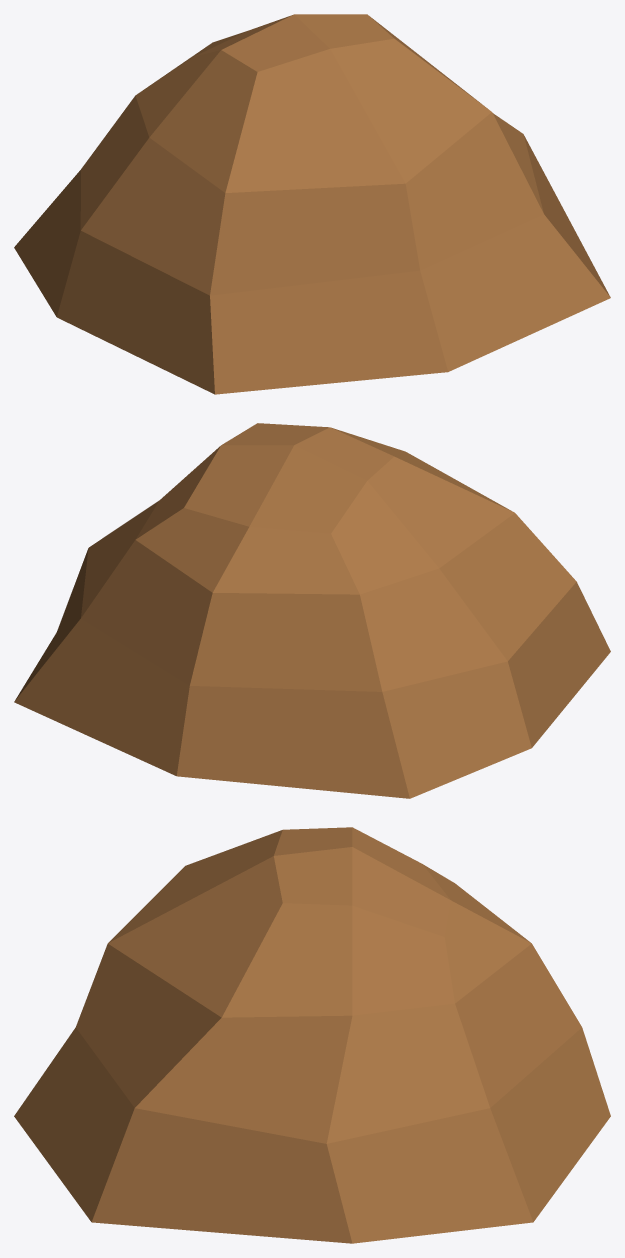
Rendered from Small_Rock_0.2,0.2,0.1_Colored.fbx.
The picture shows the model from 3 angles, top to bottom: view 1: azimuth 30°, elevation 25°; view 2: azimuth 150°, elevation 25°; view 3: azimuth 270°, elevation 25°; orthographic projection. The views are drawn at different scales.
Visible parts, largest first — view 1: Small_Rock_0_2_0_2_0_1; view 2: Small_Rock_0_2_0_2_0_1; view 3: Small_Rock_0_2_0_2_0_1.
Boxes of the visible parts, left/top/right/bottom form: Small_Rock_0_2_0_2_0_1: left=14, top=14, right=610, bottom=394; Small_Rock_0_2_0_2_0_1: left=14, top=423, right=610, bottom=798; Small_Rock_0_2_0_2_0_1: left=14, top=827, right=610, bottom=1243.
Size of the model in its own units: 19.41 by 9.56 by 19.21.
